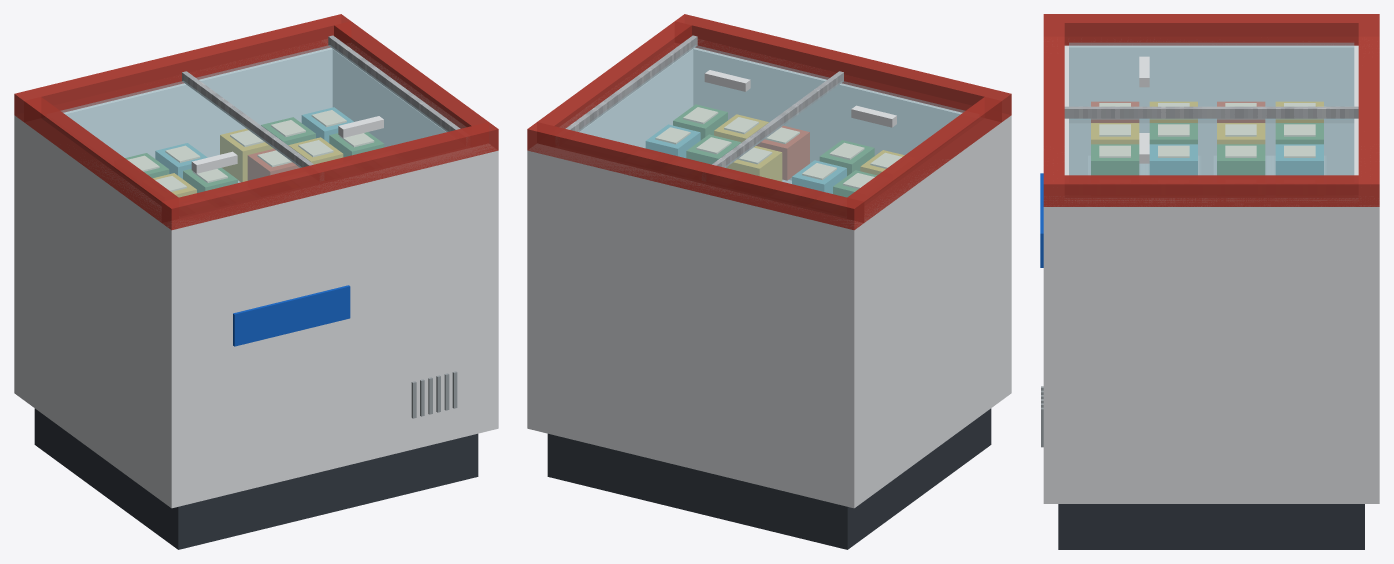
The model's file is shelf-ice-cream.glb.
3 views of the same model, side by side, from view 1: azimuth 30°, elevation 25°; view 2: azimuth 150°, elevation 25°; view 3: azimuth 270°, elevation 25° (orthographic). The views are drawn at different scales.
Visible parts, largest first — view 1: freezer-wall (×2), freezer-side (×2), freezer-red-rim (×4), freezer-sliding-glass (×2), freezer-plinth, freezer-front-badge, freezer-lid-rail (×2), stock-details_ffecd2, stock-packages_699c6a, stock-packages_e8bb4f, stock-packages_73b5bf, freezer-handle (×2) (+2 smaller); view 2: freezer-wall (×2), freezer-side (×2), freezer-red-rim (×4), freezer-sliding-glass (×2), freezer-plinth, freezer-lid-rail (×2), stock-details_ffecd2, stock-packages_699c6a, stock-packages_e8bb4f, stock-packages_73b5bf, stock-packages_d45c3f, freezer-handle (×2); view 3: freezer-side (×2), freezer-sliding-glass (×2), freezer-red-rim (×4), freezer-plinth, stock-packages_699c6a, stock-details_ffecd2, freezer-lid-rail, stock-packages_73b5bf, stock-packages_e8bb4f, freezer-wall (×2), stock-packages_d45c3f.
Part boxes in pixels (x1,y1,x2,y2): freezer-wall (×2): (64, 47, 478, 503); freezer-side (×2): (14, 48, 498, 508); freezer-red-rim (×4): (14, 14, 498, 230); freezer-sliding-glass (×2): (61, 45, 447, 197); freezer-plinth: (34, 408, 478, 549); freezer-front-badge: (233, 285, 350, 346); freezer-lid-rail (×2): (182, 35, 460, 180); stock-details_ffecd2: (128, 110, 374, 191); stock-packages_699c6a: (125, 117, 384, 192); stock-packages_e8bb4f: (153, 128, 343, 197); stock-packages_73b5bf: (155, 107, 353, 178); freezer-handle (×2): (191, 116, 383, 173); freezer-wall (×2): (547, 47, 961, 503); freezer-side (×2): (527, 48, 1011, 508); freezer-red-rim (×4): (527, 14, 1011, 230); freezer-sliding-glass (×2): (578, 45, 964, 197); freezer-plinth: (547, 408, 991, 549); freezer-lid-rail (×2): (556, 35, 843, 180); stock-details_ffecd2: (655, 107, 901, 188); stock-packages_699c6a: (673, 104, 876, 197); stock-packages_e8bb4f: (714, 114, 904, 181); stock-packages_73b5bf: (645, 124, 846, 193); stock-packages_d45c3f: (756, 126, 809, 180); freezer-handle (×2): (704, 70, 896, 127); freezer-side (×2): (1043, 45, 1379, 503); freezer-sliding-glass (×2): (1069, 42, 1354, 175); freezer-red-rim (×4): (1043, 14, 1379, 206); freezer-plinth: (1058, 504, 1364, 549); stock-packages_699c6a: (1091, 123, 1323, 175); stock-details_ffecd2: (1099, 103, 1315, 157); freezer-lid-rail: (1064, 106, 1358, 118); stock-packages_73b5bf: (1149, 144, 1323, 175); stock-packages_e8bb4f: (1091, 101, 1323, 144); freezer-wall (×2): (1064, 47, 1358, 175); stock-packages_d45c3f: (1091, 101, 1265, 122).
Bounding box in the file's own units: 0.96 × 0.98 × 0.808.
Materials: 12 (1 with a texture image).
